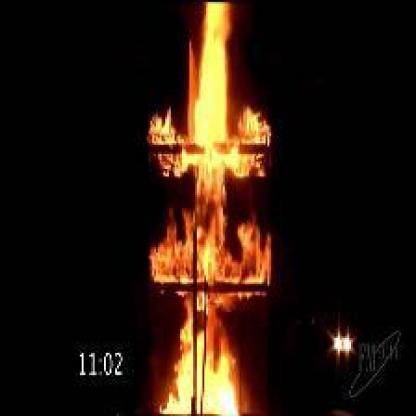fire: (140, 1, 274, 412)
other: (322, 324, 355, 360)
